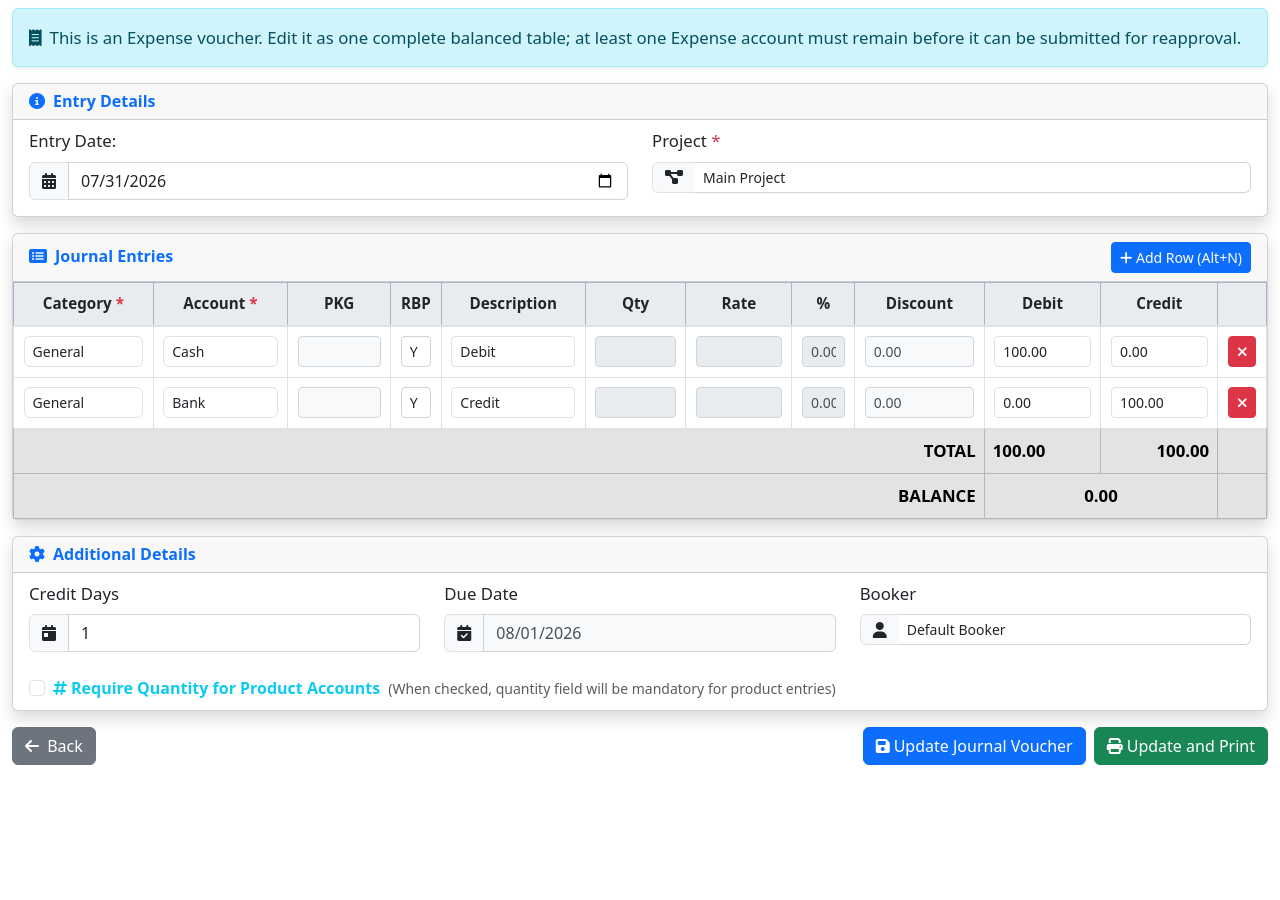
it: Expense full-voucher revision › formats debit input and journal totals with thousands separators
Clear the field named "Entry 1 debit" at (1043, 352), box x1=994 y1=336 x2=1091 y2=367
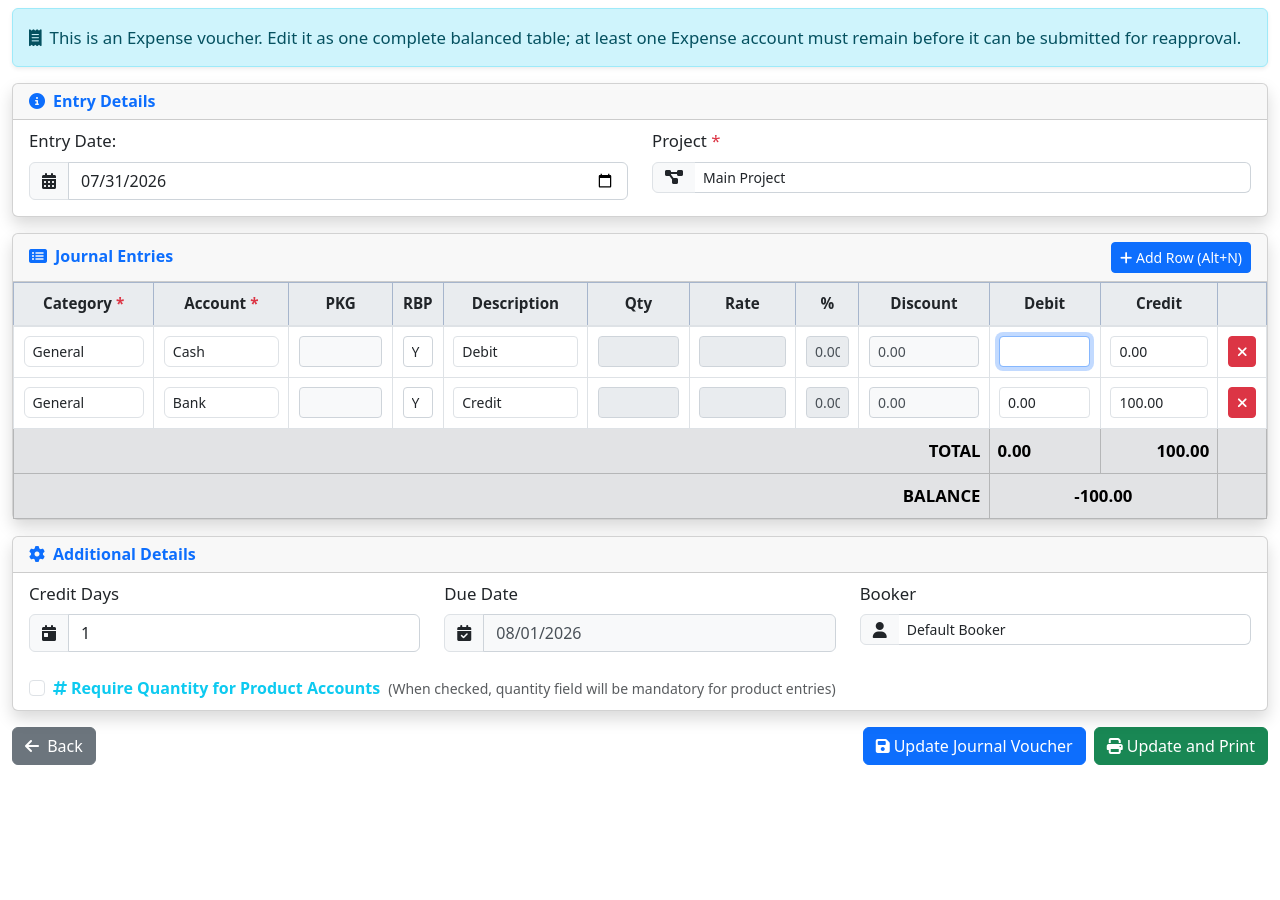
Type "10000.5" into the field named "Entry 1 debit" at (1045, 352), box x1=999 y1=336 x2=1090 y2=367
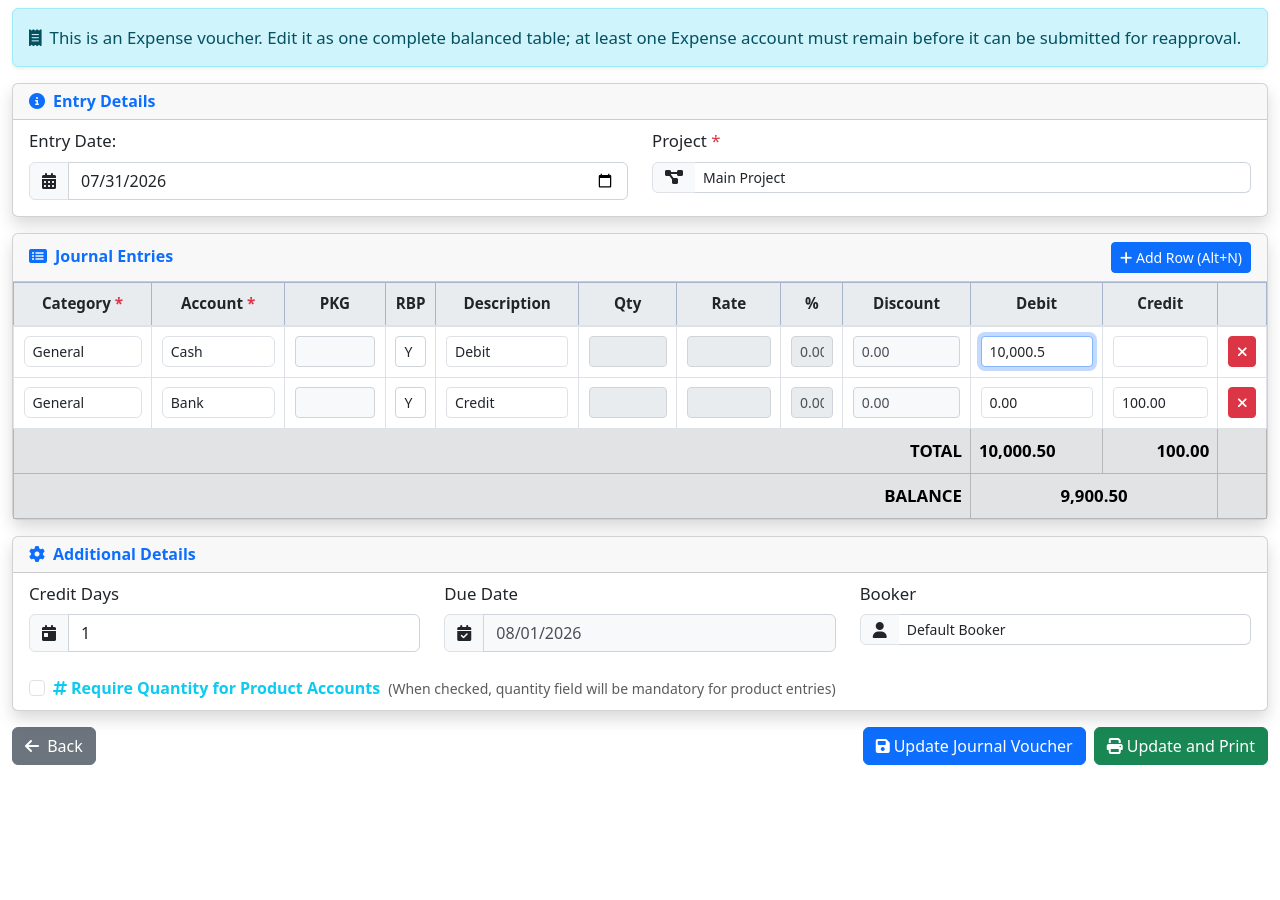
Expected: the field named "Entry 1 debit" holds "10,000.5", x1=980 y1=336 x2=1093 y2=367
Press Tab
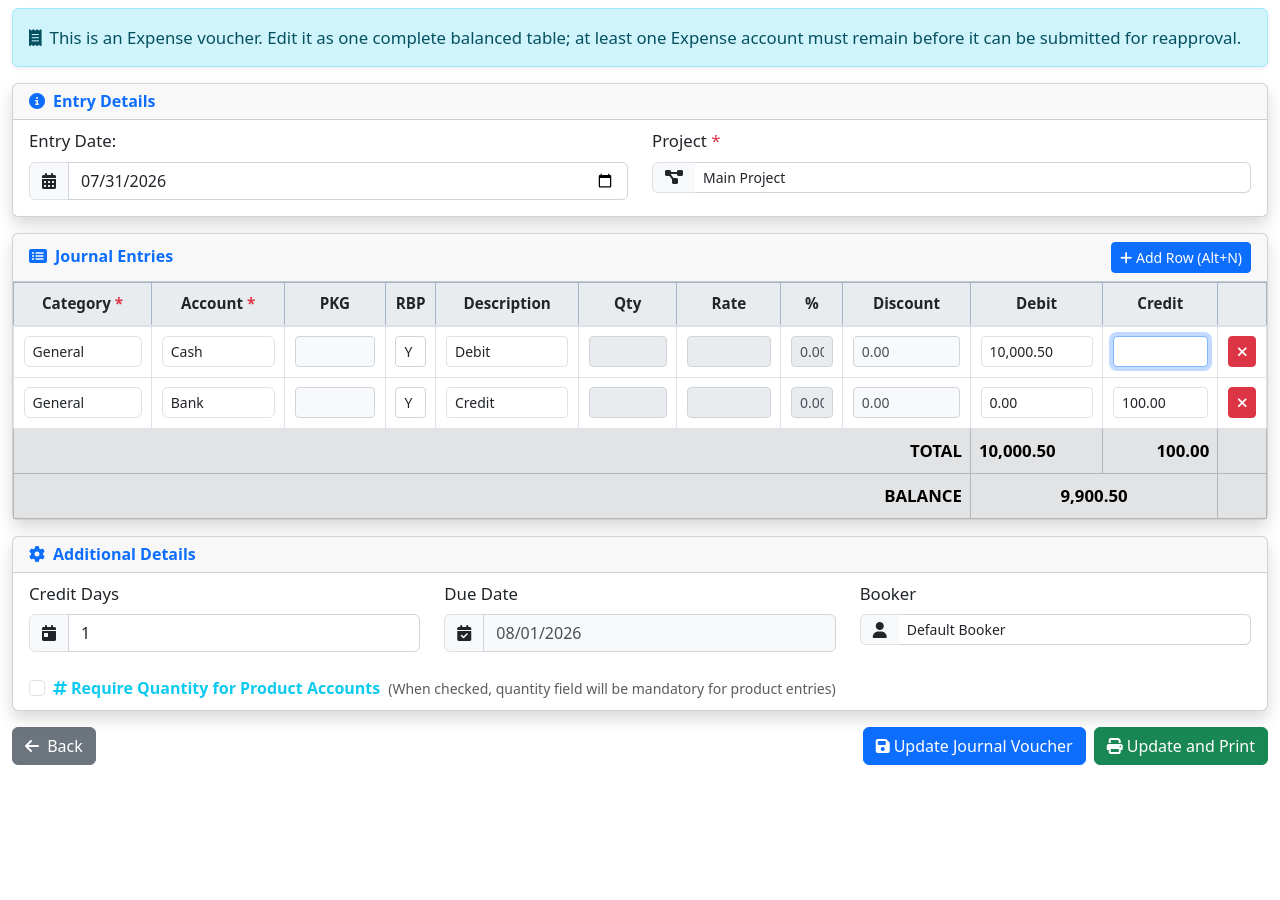
Expected: the text "10,000.50" is shown, x1=970 y1=428 x2=1103 y2=473
Expected: the field named "Entry 1 debit" holds "10,000.50", x1=980 y1=336 x2=1093 y2=367
